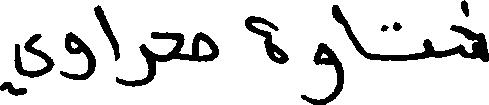X: (0, 29, 53, 100), (303, 0, 333, 104), (335, 0, 364, 103), (451, 0, 488, 66), (246, 11, 286, 68), (119, 27, 153, 91), (94, 0, 117, 87), (61, 27, 92, 84), (155, 27, 183, 79), (193, 27, 217, 66), (423, 34, 433, 63)
